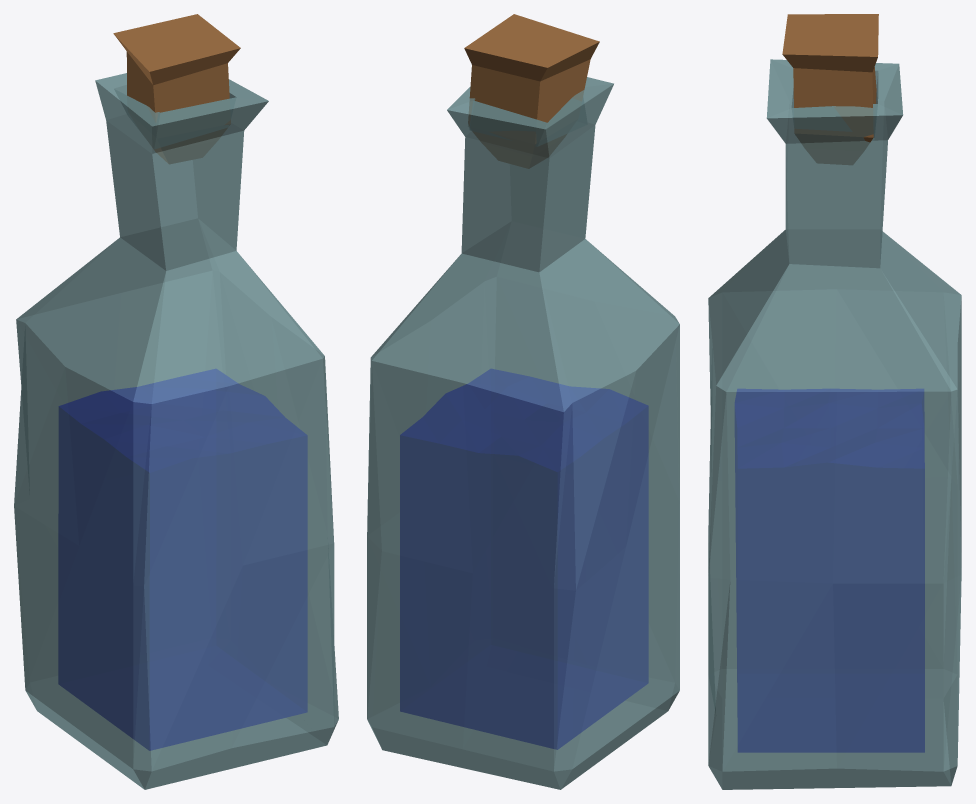
Rendered from BluePotion.fbx.
The picture shows the model from 3 angles, left to right: view 1: azimuth 30°, elevation 25°; view 2: azimuth 150°, elevation 25°; view 3: azimuth 270°, elevation 25°; orthographic projection. The views are drawn at different scales.
Visible parts, largest first — view 1: PotionBottle, Potion, Coke; view 2: PotionBottle, Potion, Coke; view 3: PotionBottle, Potion, Coke.
Part boxes in pixels (x1,y1,x2,y2): PotionBottle: (14,73,338,789); Potion: (58,369,307,750); Coke: (113,14,240,163); PotionBottle: (367,77,679,789); Potion: (400,369,648,749); Coke: (464,14,599,168); PotionBottle: (708,59,961,789); Potion: (735,389,924,752); Coke: (782,14,878,164).
Size of the model in its own units: 410 by 1241 by 403.
